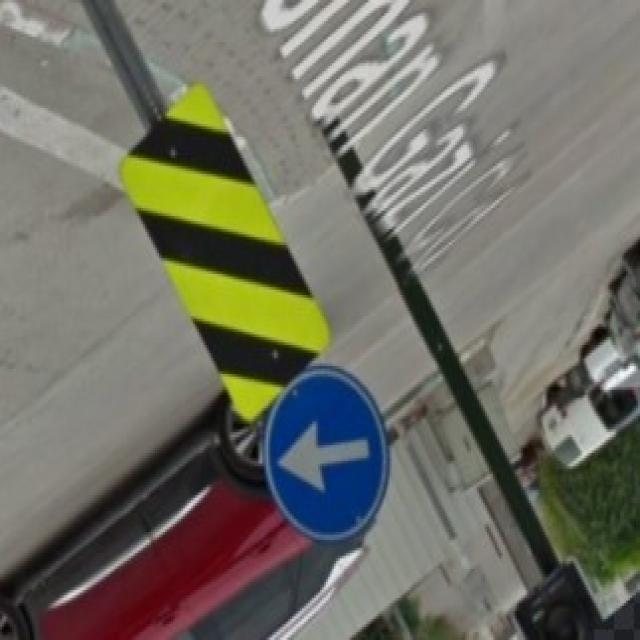Turn Left: (264, 375, 387, 544)
